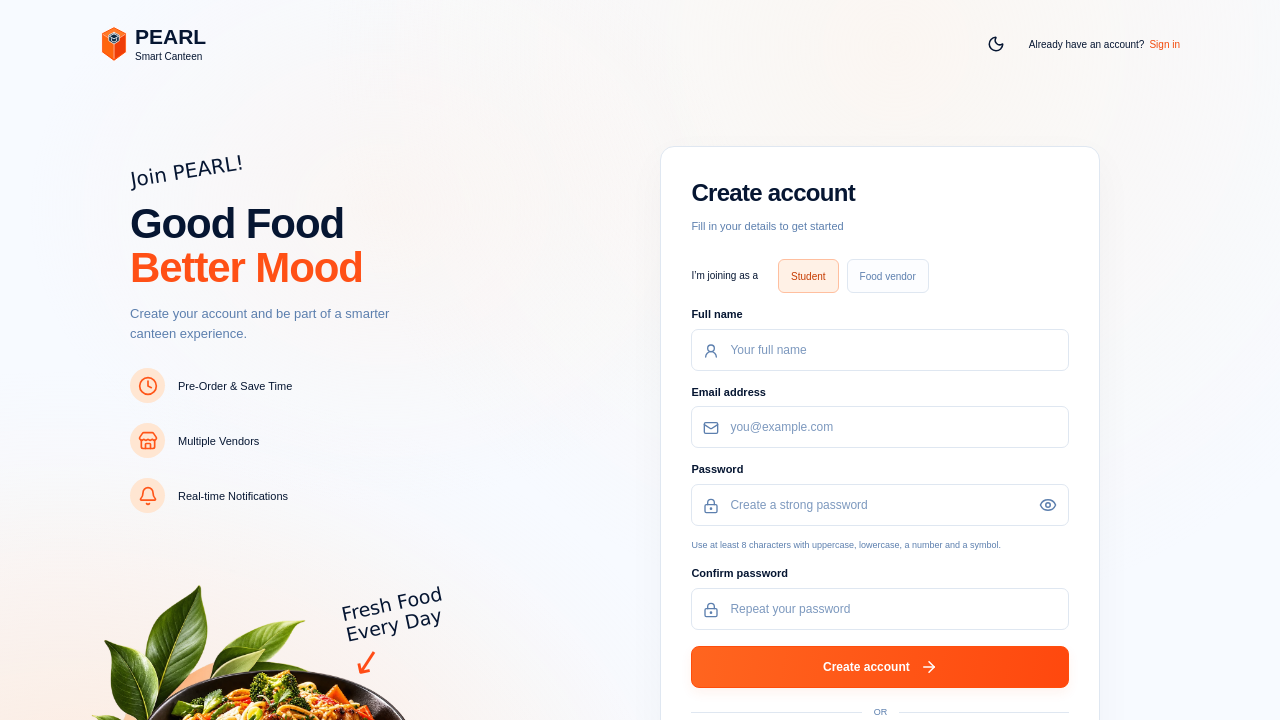
mismatched passwords never submit
Type "Password@123" into the password field labelled "Password" at (880, 505), box [691, 484, 1069, 526]
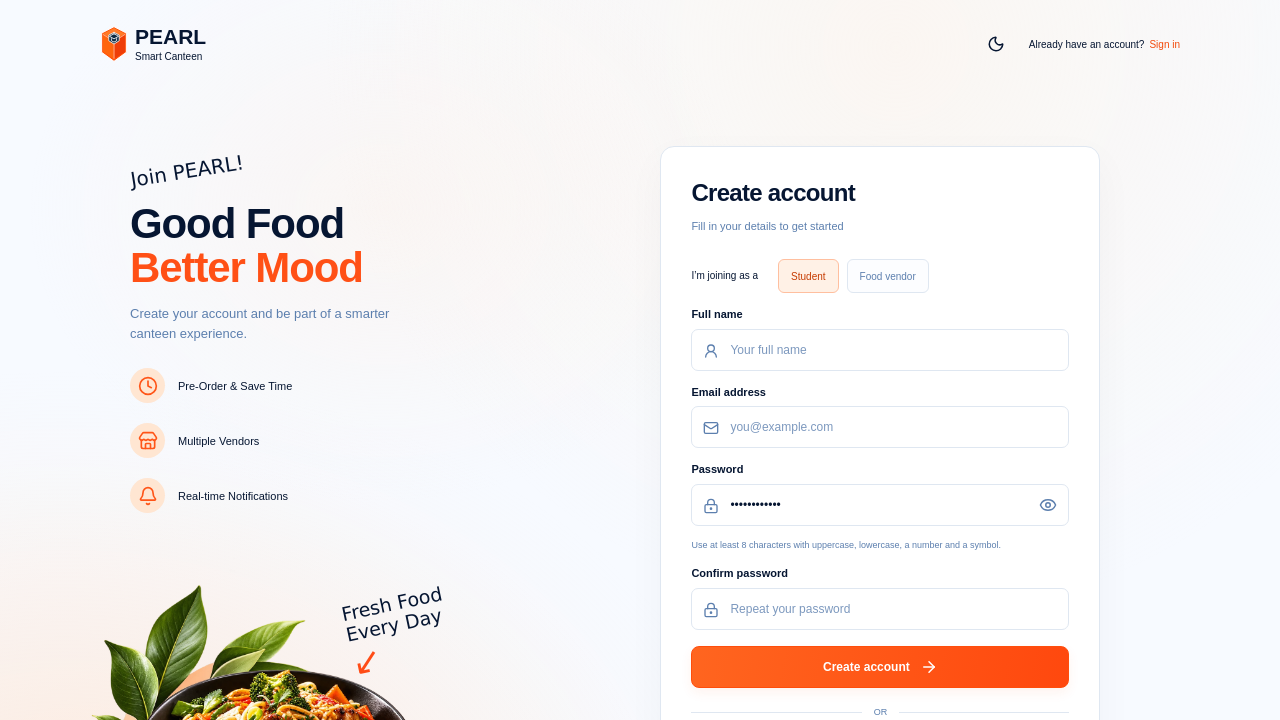
Type "Different@123" into the password field labelled "Confirm password" at (880, 609), box [691, 588, 1069, 630]
(page scrolled)
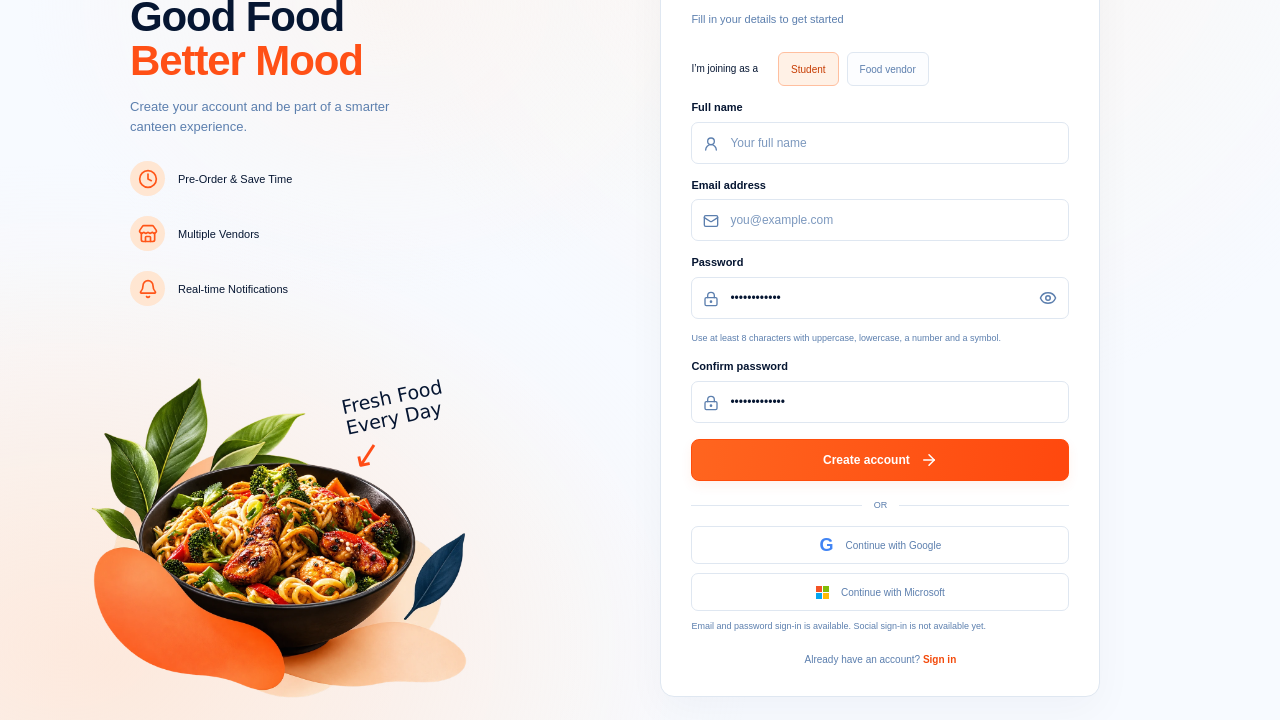
Submit the form named "Create account", box [691, 52, 1069, 668]
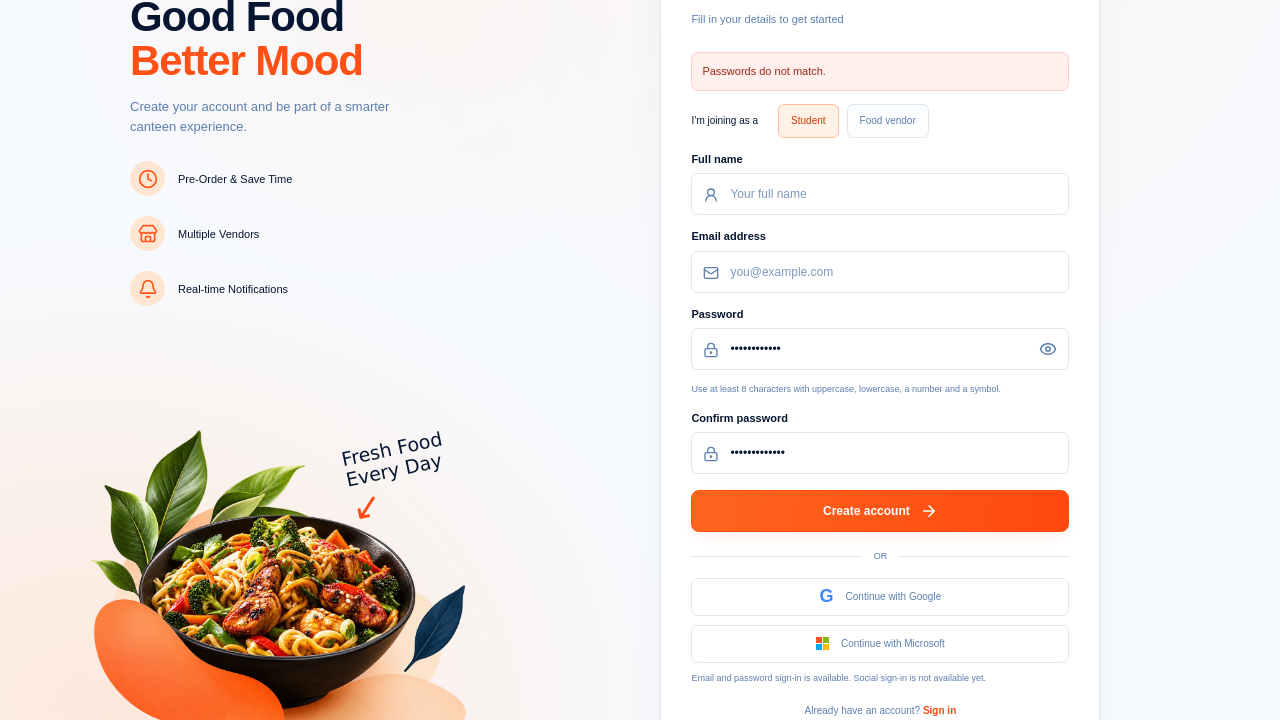
Now the message shows "Passwords do not match", box [702, 65, 826, 77]
